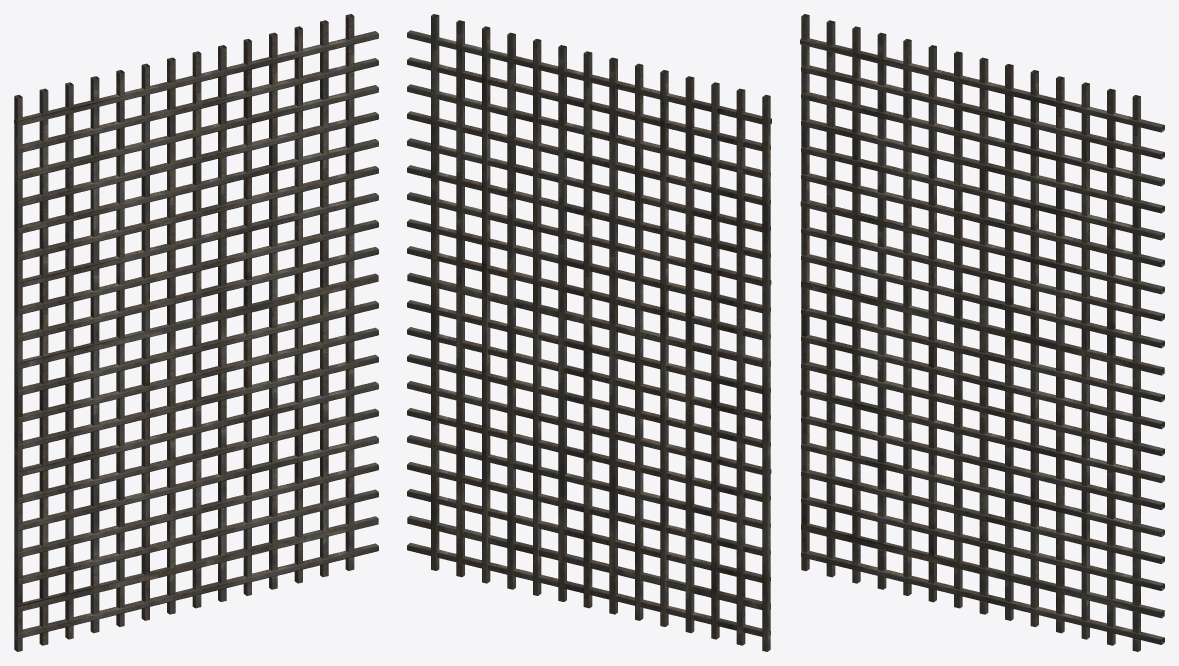
Rendered from wall_009.glb.
3 views of the same model, side by side, from view 1: azimuth 30°, elevation 25°; view 2: azimuth 150°, elevation 25°; view 3: azimuth 330°, elevation 25° (orthographic).
Parts seen in each view (by area): view 1: Building_12_070; view 2: Building_12_070; view 3: Building_12_070.
Part boxes in pixels (box(x1,y1,x2,y2)): Building_12_070: box(14, 14, 378, 651); Building_12_070: box(407, 14, 771, 651); Building_12_070: box(800, 14, 1164, 651).
Bounding box in the file's own units: 1.37 × 2 × 0.0264.
1 material, 1 textured.
